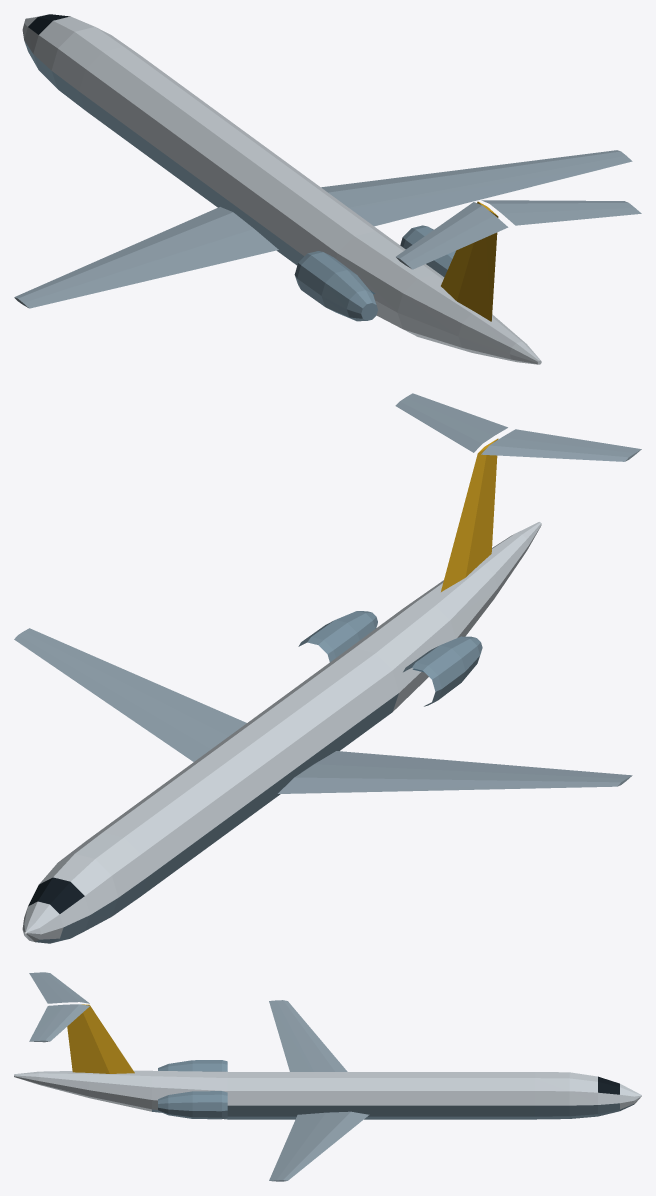
3 views of the same model, one above another, from view 1: azimuth 30°, elevation 25°; view 2: azimuth 150°, elevation 25°; view 3: azimuth 270°, elevation 25° (orthographic). The views are drawn at different scales.
Parts seen in each view (by area): view 1: lod0; view 2: lod0; view 3: lod0.
Part boxes in pixels (x1=…): lod0: x1=14, y1=14, x2=641, y2=364; lod0: x1=14, y1=393, x2=641, y2=943; lod0: x1=14, y1=972, x2=641, y2=1181.
Size of what is drawn, in the model's own units: 0.6778 by 0.199 by 1.
